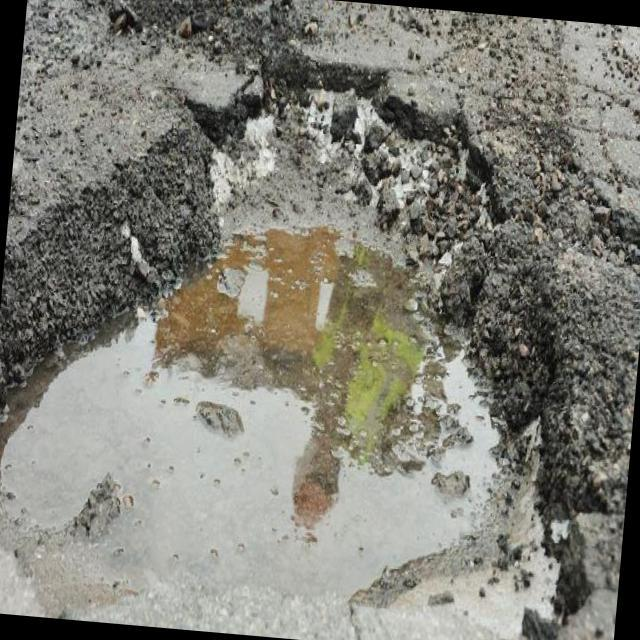Pothole: (0, 28, 640, 640)
